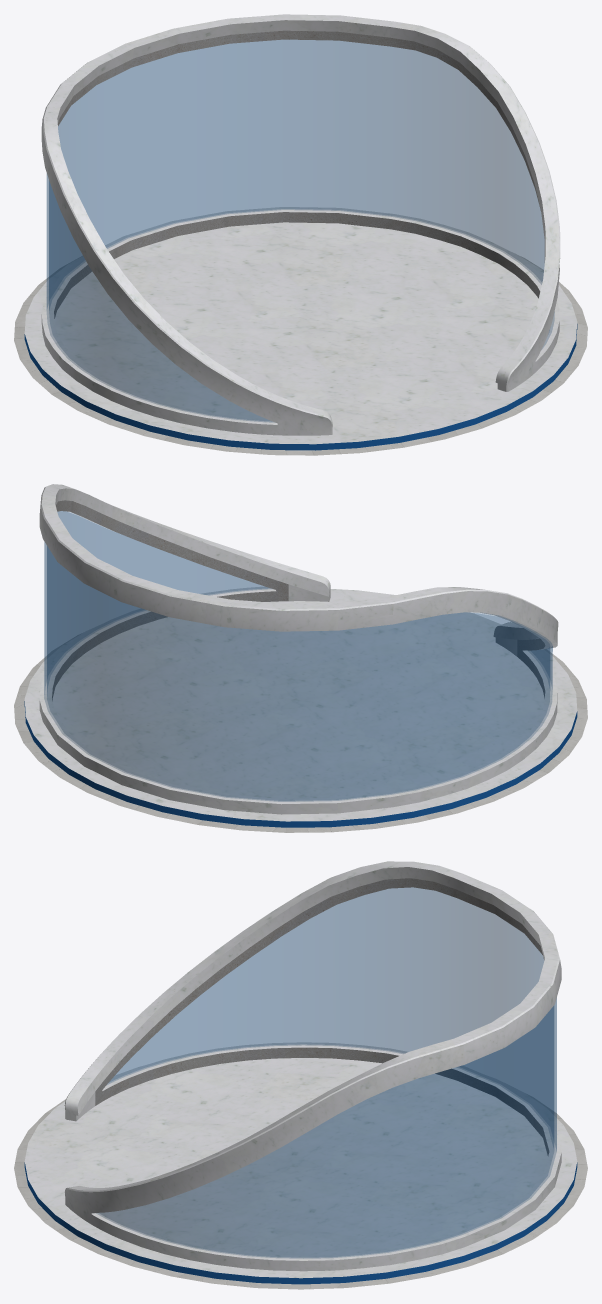
File: SPod_01.fbx
The picture shows the model from 3 angles, top to bottom: view 1: azimuth 30°, elevation 25°; view 2: azimuth 150°, elevation 25°; view 3: azimuth 270°, elevation 25°; orthographic projection.
Visible parts, largest first — view 1: PodGlass1, NexusHub003, PodFrame1; view 2: NexusHub003, PodGlass1, PodFrame1; view 3: PodGlass1, NexusHub003, PodFrame1.
Part boxes in pixels (x1=…): PodGlass1: x1=47, y1=40, x2=554, y2=422; NexusHub003: x1=14, y1=222, x2=587, y2=455; PodFrame1: x1=41, y1=14, x2=560, y2=435; NexusHub003: x1=14, y1=589, x2=587, y2=832; PodGlass1: x1=44, y1=511, x2=552, y2=801; PodFrame1: x1=39, y1=484, x2=558, y2=814; PodGlass1: x1=96, y1=887, x2=556, y2=1258; NexusHub003: x1=14, y1=1058, x2=587, y2=1289; PodFrame1: x1=64, y1=861, x2=561, y2=1271.
Bounding box in the file's own units: 11.77 × 4.78 × 11.77.
